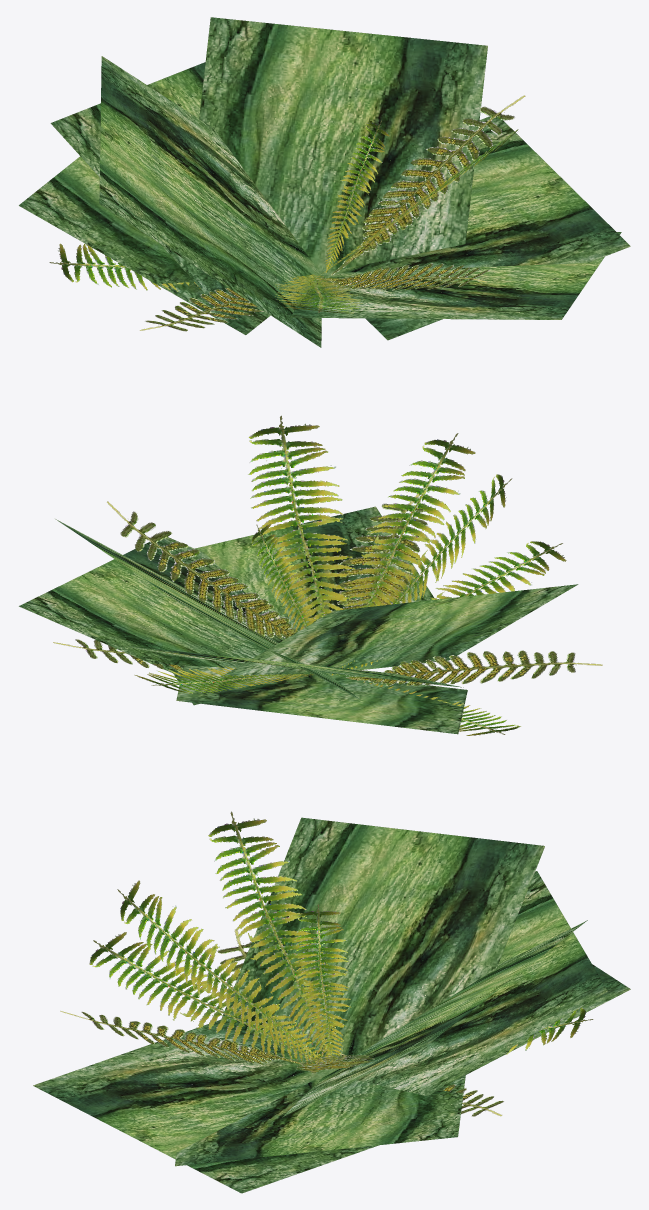
Rendered from tropfern.obj.
3 views of the same model, one above another, from view 1: azimuth 30°, elevation 25°; view 2: azimuth 150°, elevation 25°; view 3: azimuth 270°, elevation 25° (orthographic). The views are drawn at different scales.
Parts seen in each view (by area): view 1: Plant1; view 2: Plant1; view 3: Plant1.
Part boxes in pixels (x1=…): Plant1: x1=19, y1=17, x2=630, y2=347; Plant1: x1=19, y1=415, x2=602, y2=735; Plant1: x1=33, y1=811, x2=630, y2=1193.
Bounding box in the file's own units: 171 × 67.54 × 168.
